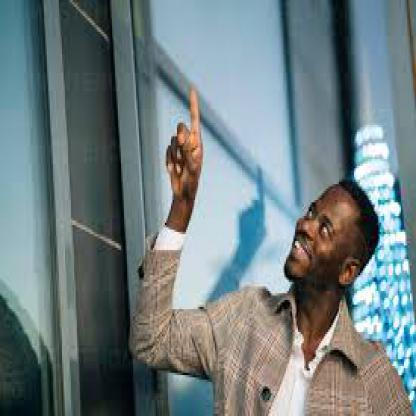Up: (158, 86, 208, 190)
